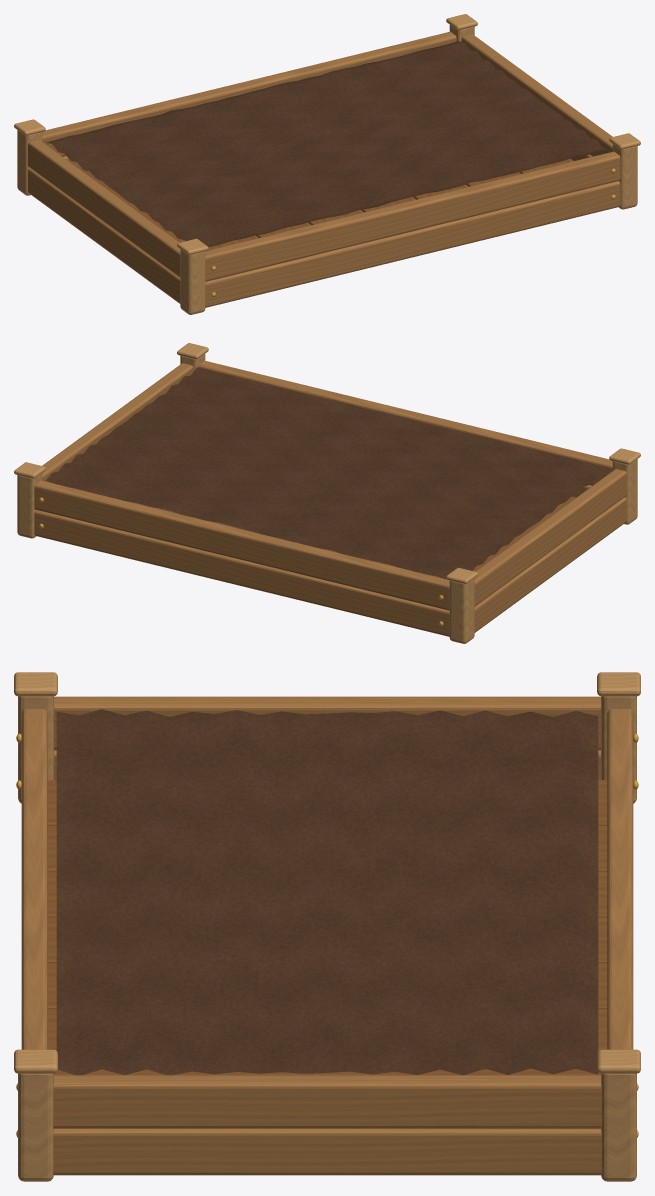
The model's file is raised-bed.glb.
3 renders of one model, top to bottom at view 1: azimuth 30°, elevation 25°; view 2: azimuth 150°, elevation 25°; view 3: azimuth 270°, elevation 25°, orthographic. The views are drawn at different scales.
Visible parts, largest first — view 1: raised_bed; view 2: raised_bed; view 3: raised_bed.
Part boxes in pixels (bbox=[...]): raised_bed: bbox=[14, 14, 640, 314]; raised_bed: bbox=[14, 343, 640, 643]; raised_bed: bbox=[14, 672, 640, 1181].
Size of the model in its own units: 3.63 by 0.5075 by 2.43.
5 materials, 4 textured.
